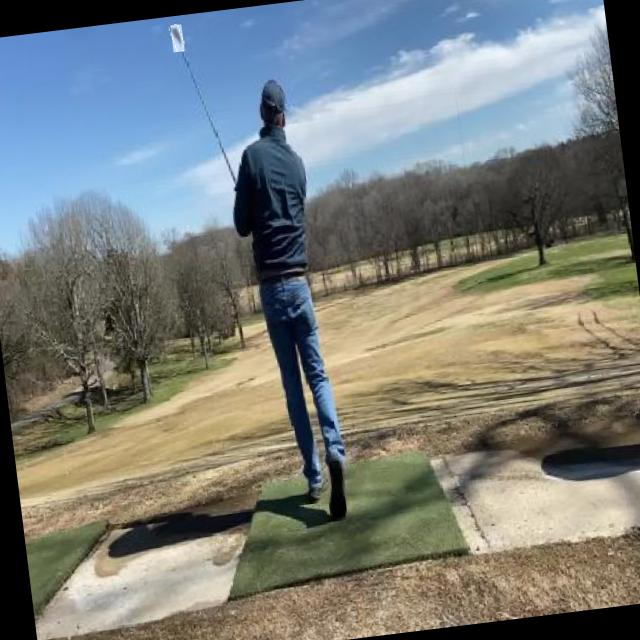club head: (170, 24, 184, 52)
